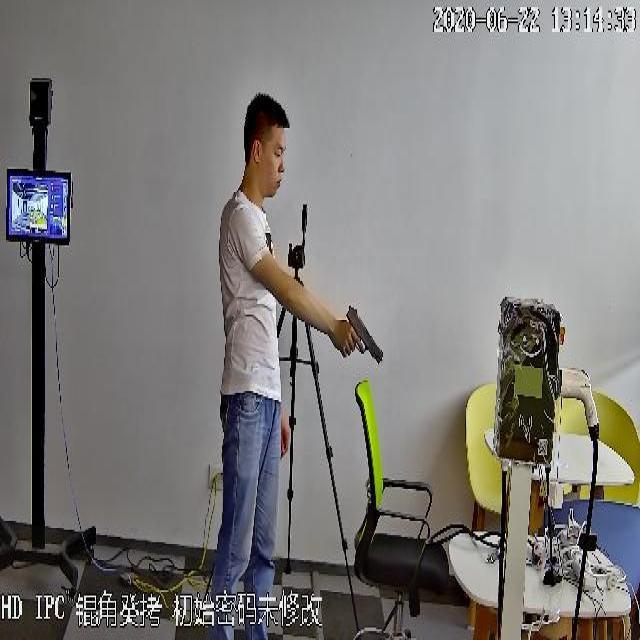pistol: (334, 302, 384, 364)
